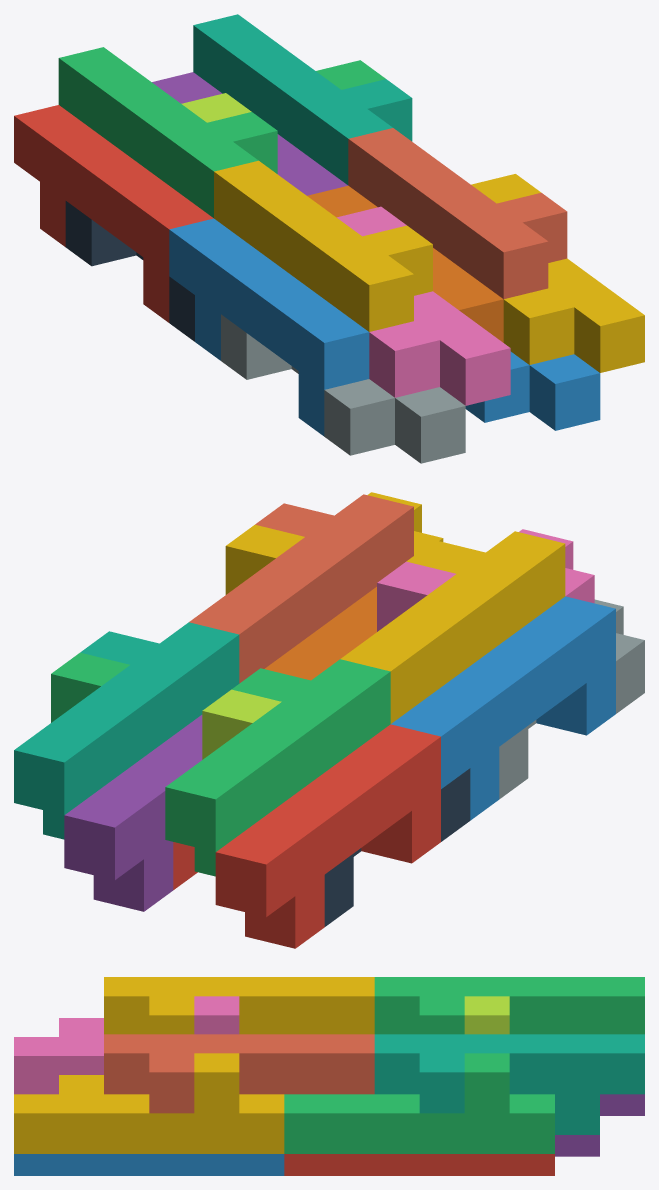
The model's file is tiling.obj.
3 views of the same model, one above another, from view 1: azimuth 30°, elevation 25°; view 2: azimuth 150°, elevation 25°; view 3: azimuth 270°, elevation 25° (orthographic). The views are drawn at different scales.
Parts seen in each view (by area): view 1: copy_1_domain_2, copy_1_domain_4, copy_1_domain_8, copy_1_domain_1, copy_1_domain_3, copy_1_domain_7, copy_2_domain_4, copy_2_domain_8, copy_2_domain_2, copy_2_domain_6, copy_1_domain_6, copy_2_domain_1 (+3 smaller); view 2: copy_1_domain_1, copy_1_domain_3, copy_1_domain_7, copy_1_domain_2, copy_1_domain_4, copy_1_domain_8, copy_1_domain_5, copy_1_domain_6, copy_2_domain_4, copy_2_domain_2, copy_2_domain_8, copy_2_domain_1 (+3 smaller); view 3: copy_2_domain_8, copy_1_domain_7, copy_2_domain_7, copy_1_domain_8, copy_1_domain_4, copy_1_domain_3, copy_2_domain_4, copy_2_domain_5, copy_2_domain_6, copy_1_domain_5, copy_2_domain_3.
Part boxes in pixels (left/top/right/bottom): copy_1_domain_2: left=169, top=218, right=369, bottom=436; copy_1_domain_4: left=214, top=160, right=432, bottom=331; copy_1_domain_8: left=348, top=128, right=567, bottom=299; copy_1_domain_1: left=14, top=105, right=213, bottom=322; copy_1_domain_3: left=58, top=47, right=277, bottom=217; copy_1_domain_7: left=193, top=14, right=412, bottom=184; copy_2_domain_4: left=336, top=206, right=510, bottom=405; copy_2_domain_8: left=471, top=174, right=644, bottom=372; copy_2_domain_2: left=221, top=314, right=465, bottom=463; copy_2_domain_6: left=465, top=351, right=600, bottom=430; copy_1_domain_6: left=307, top=185, right=503, bottom=342; copy_2_domain_1: left=65, top=201, right=194, bottom=341; copy_1_domain_1: left=215, top=724, right=440, bottom=948; copy_1_domain_3: left=165, top=659, right=390, bottom=876; copy_1_domain_7: left=14, top=622, right=239, bottom=839; copy_1_domain_2: left=391, top=596, right=615, bottom=820; copy_1_domain_4: left=340, top=531, right=565, bottom=723; copy_1_domain_8: left=189, top=494, right=413, bottom=683; copy_1_domain_5: left=64, top=715, right=202, bottom=911; copy_1_domain_6: left=265, top=587, right=376, bottom=680; copy_2_domain_4: left=377, top=529, right=594, bottom=631; copy_2_domain_2: left=499, top=599, right=644, bottom=799; copy_2_domain_8: left=225, top=492, right=443, bottom=594; copy_2_domain_1: left=324, top=768, right=470, bottom=926; copy_2_domain_8: left=14, top=1053, right=284, bottom=1153; copy_1_domain_7: left=374, top=1034, right=644, bottom=1134; copy_2_domain_7: left=284, top=1053, right=554, bottom=1153; copy_1_domain_8: left=104, top=1034, right=374, bottom=1113; copy_1_domain_4: left=104, top=977, right=374, bottom=1034; copy_1_domain_3: left=374, top=977, right=644, bottom=1034; copy_2_domain_4: left=14, top=996, right=239, bottom=1094; copy_2_domain_5: left=284, top=1154, right=554, bottom=1175; copy_2_domain_6: left=14, top=1154, right=284, bottom=1175; copy_1_domain_5: left=555, top=1094, right=644, bottom=1156; copy_2_domain_3: left=464, top=996, right=509, bottom=1034.
Size of the model in its own units: 6 by 3 by 14.
